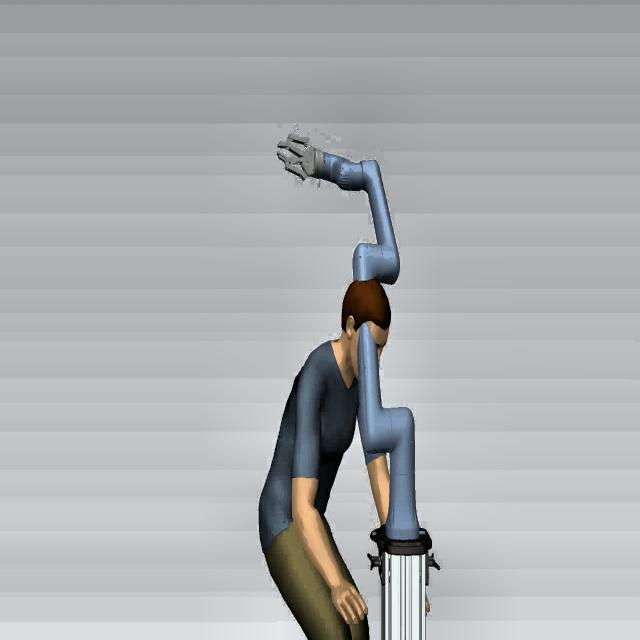robot: (265, 129, 440, 557)
